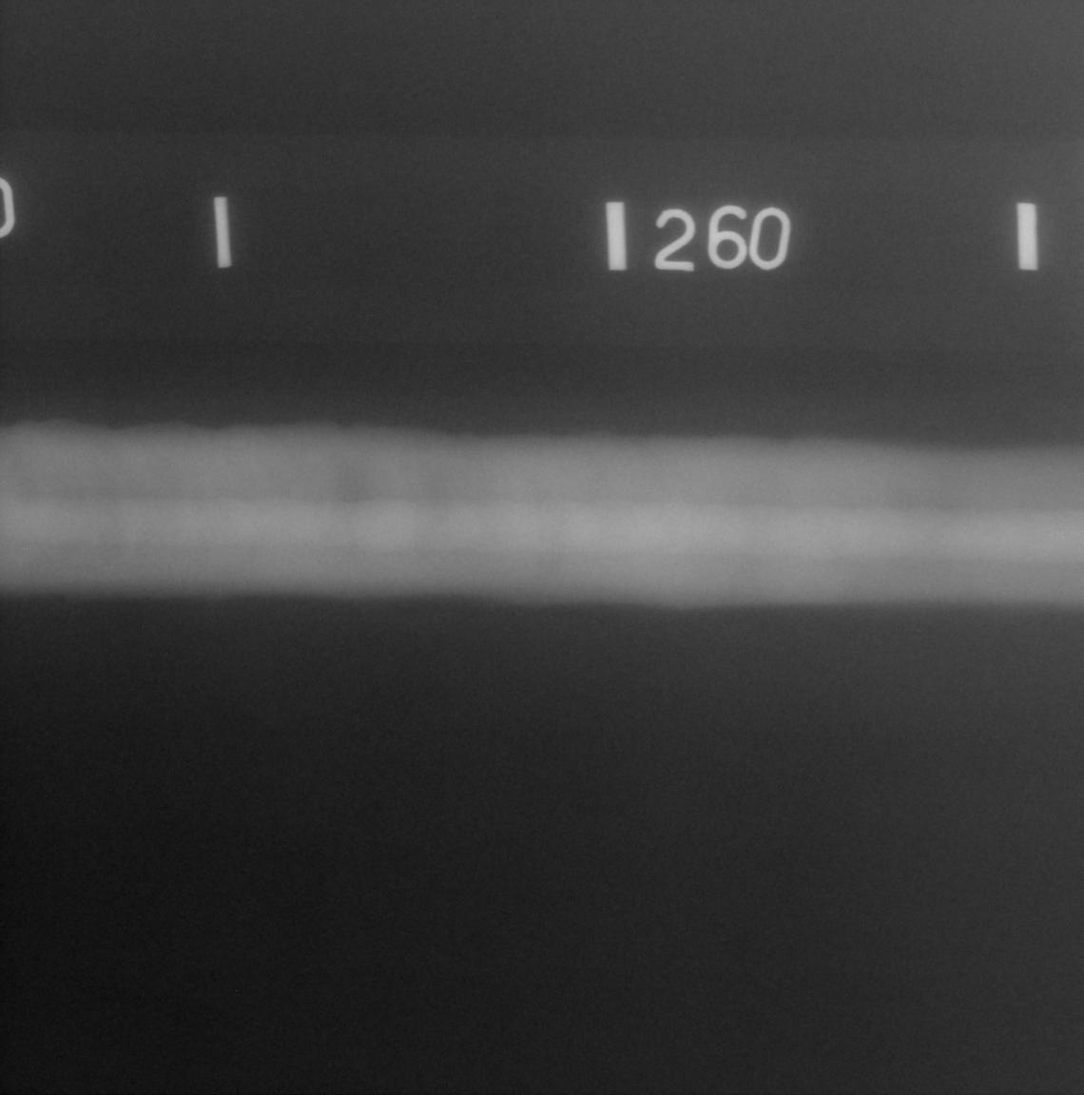Pore/Porosity: (803, 519, 808, 524)
